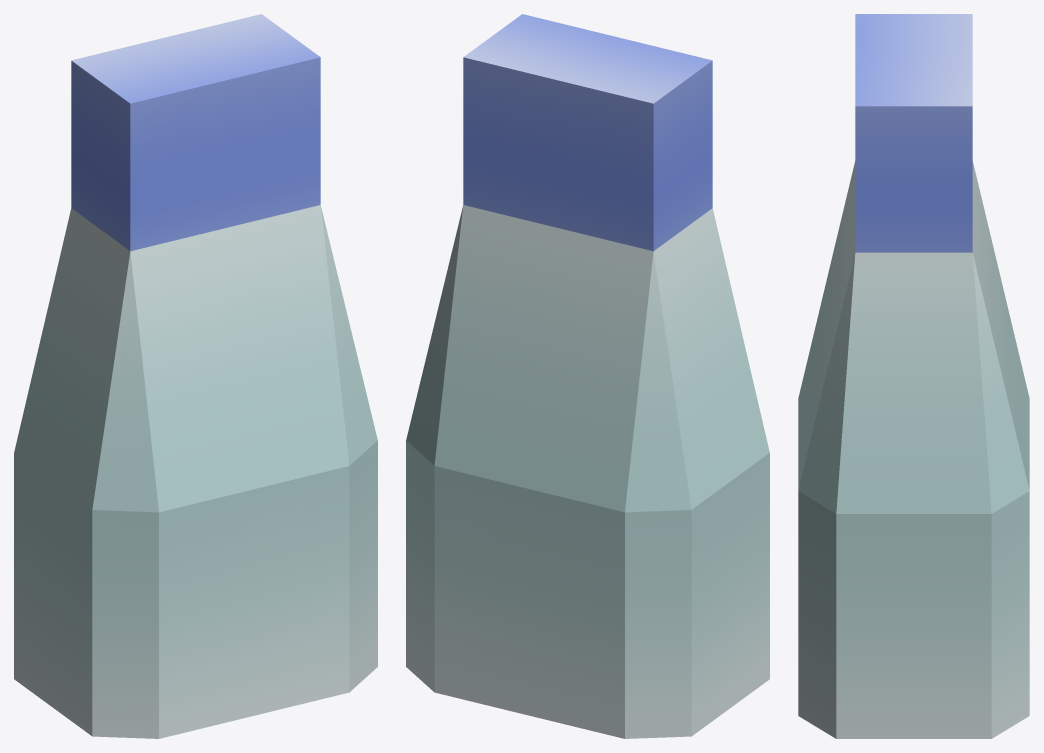
File: giftgoods107c.fbx
3 renders of one model, left to right at view 1: azimuth 30°, elevation 25°; view 2: azimuth 150°, elevation 25°; view 3: azimuth 270°, elevation 25°, orthographic.
Visible parts, largest first — view 1: giftgoods107c; view 2: giftgoods107c; view 3: giftgoods107c.
Boxes of the visible parts, bbox=[...] form: giftgoods107c: bbox=[14, 14, 377, 738]; giftgoods107c: bbox=[406, 14, 769, 738]; giftgoods107c: bbox=[798, 14, 1029, 738].
Bounding box in the file's own units: 0.0443 × 0.0911 × 0.0313.
